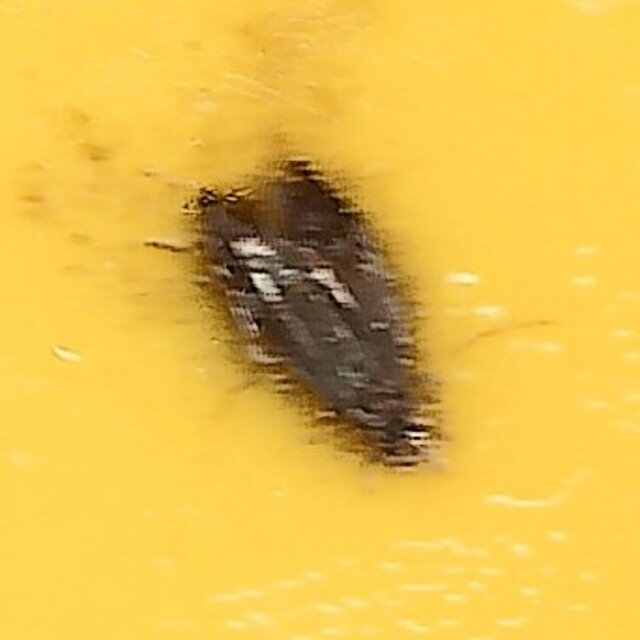Lepidoptera: (187, 158, 453, 482)
